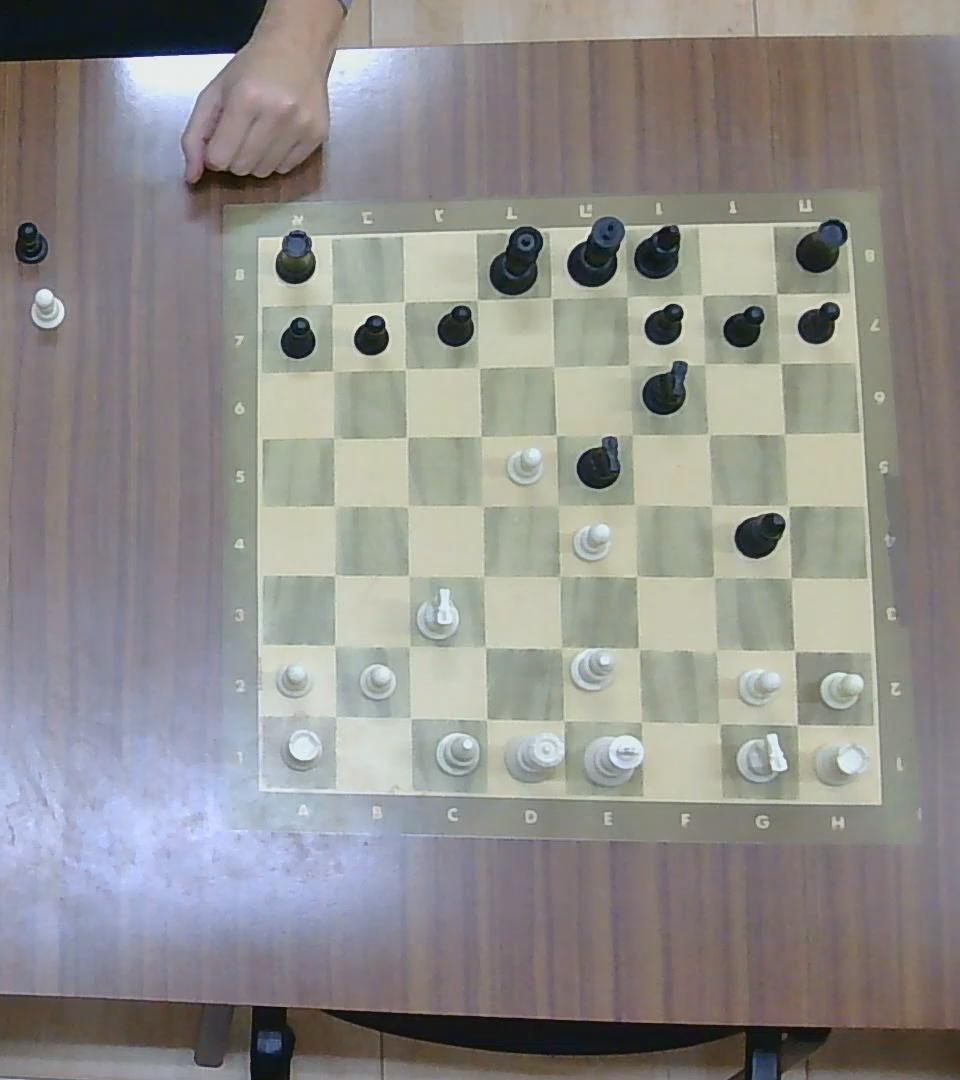xcorner: (701, 705, 735, 739), (621, 631, 653, 664), (545, 631, 577, 664), (624, 704, 656, 736), (780, 706, 812, 738), (470, 702, 501, 734), (469, 630, 500, 662), (547, 704, 578, 736), (699, 634, 731, 665), (393, 701, 424, 732), (775, 561, 806, 592), (698, 561, 728, 592), (319, 700, 350, 730), (621, 560, 651, 590), (393, 631, 423, 661), (544, 560, 574, 590), (778, 636, 808, 666), (468, 562, 498, 591), (320, 629, 349, 659), (616, 419, 645, 448), (393, 561, 423, 589), (469, 490, 497, 518), (320, 561, 348, 589), (773, 490, 801, 518), (544, 491, 573, 518), (537, 283, 566, 310), (393, 491, 421, 518), (697, 491, 725, 518), (321, 491, 349, 518), (612, 283, 640, 310), (318, 421, 345, 448), (543, 420, 570, 447), (622, 490, 648, 518), (317, 290, 345, 316), (318, 356, 345, 382), (771, 420, 798, 446), (393, 422, 419, 448), (695, 420, 721, 446), (467, 422, 492, 448), (540, 353, 566, 378), (616, 351, 641, 377), (463, 286, 489, 310), (763, 281, 789, 305), (691, 350, 716, 374), (466, 353, 490, 378), (767, 350, 792, 374), (390, 290, 415, 313), (391, 356, 415, 379), (690, 283, 714, 306)
